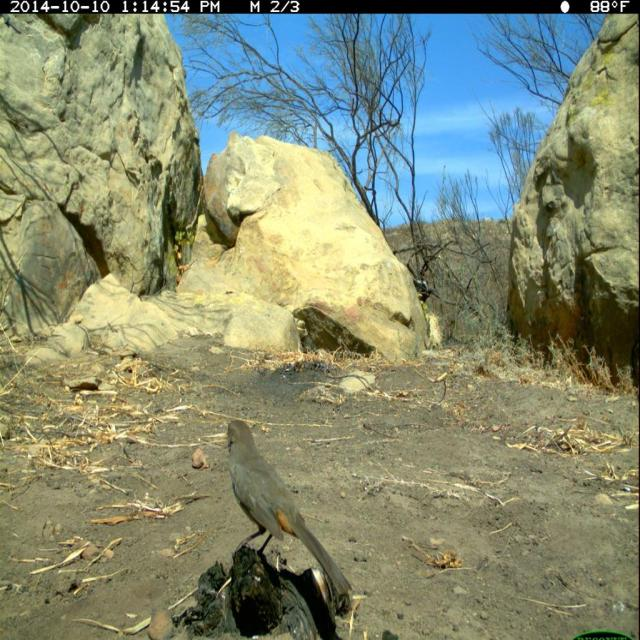bird: (216, 409, 357, 608)
